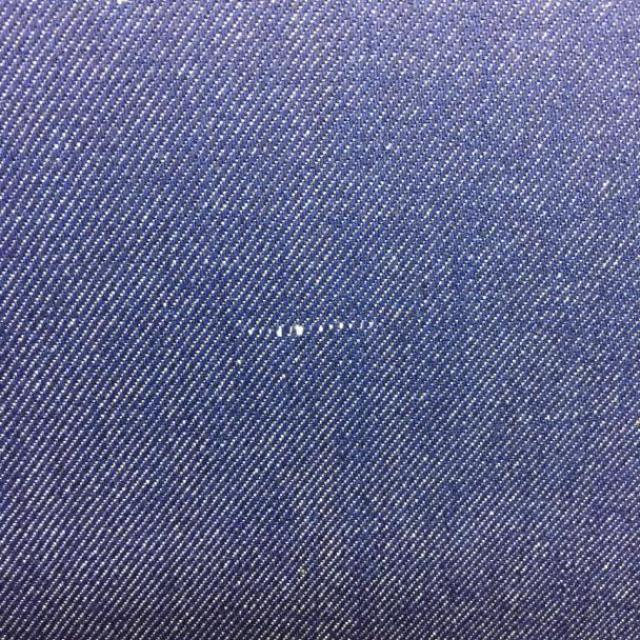Knot: (246, 319, 377, 339)
